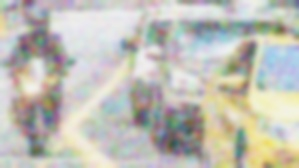Vehicle: (144, 14, 296, 155), (191, 33, 299, 168), (129, 4, 234, 125), (0, 7, 79, 158)
